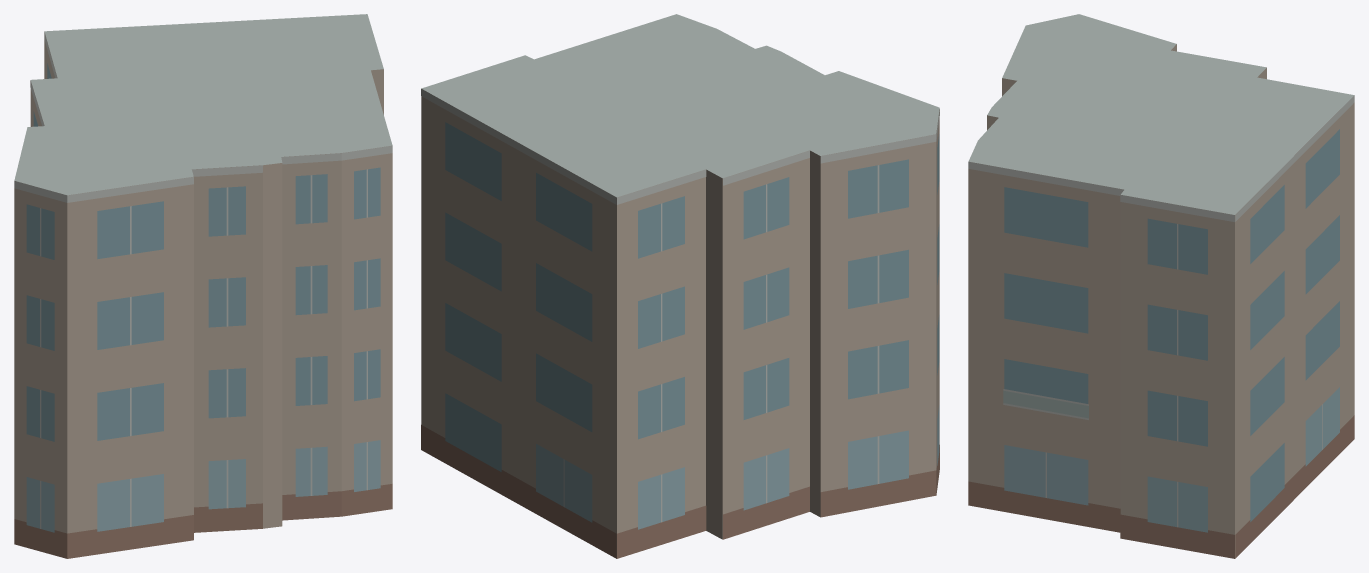
The model's file is survey-upis-32929838.glb.
The picture shows the model from 3 angles, left to right: view 1: azimuth 30°, elevation 25°; view 2: azimuth 150°, elevation 25°; view 3: azimuth 270°, elevation 25°; orthographic projection. The views are drawn at different scales.
Parts seen in each view (by area): view 1: survey-upis-32929838.tmp; view 2: survey-upis-32929838.tmp; view 3: survey-upis-32929838.tmp.
Boxes of the visible parts, left/top/right/bottom form: survey-upis-32929838.tmp: left=14, top=14, right=392, bottom=558; survey-upis-32929838.tmp: left=421, top=14, right=939, bottom=558; survey-upis-32929838.tmp: left=968, top=14, right=1354, bottom=558.
Size of the model in its own units: 14.69 by 11.7 by 11.92.
